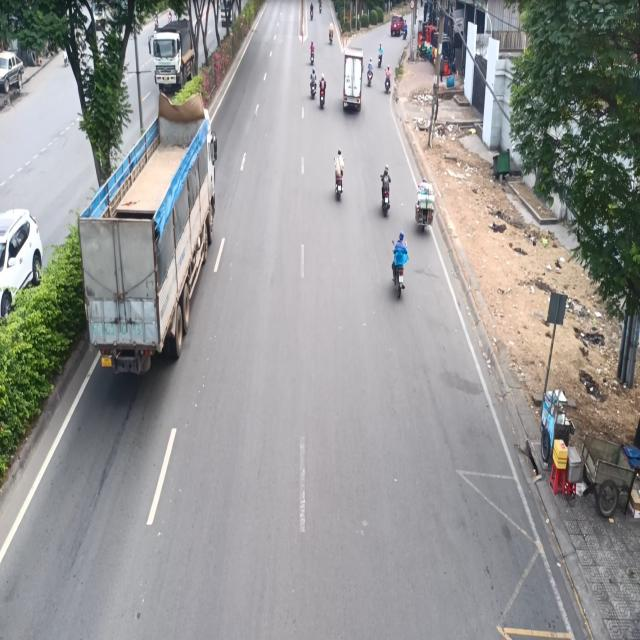motor: (392, 228, 410, 308), (330, 143, 348, 205), (380, 167, 392, 214), (383, 58, 393, 100), (319, 68, 325, 114)
truck: (77, 96, 218, 368), (342, 44, 368, 114)
